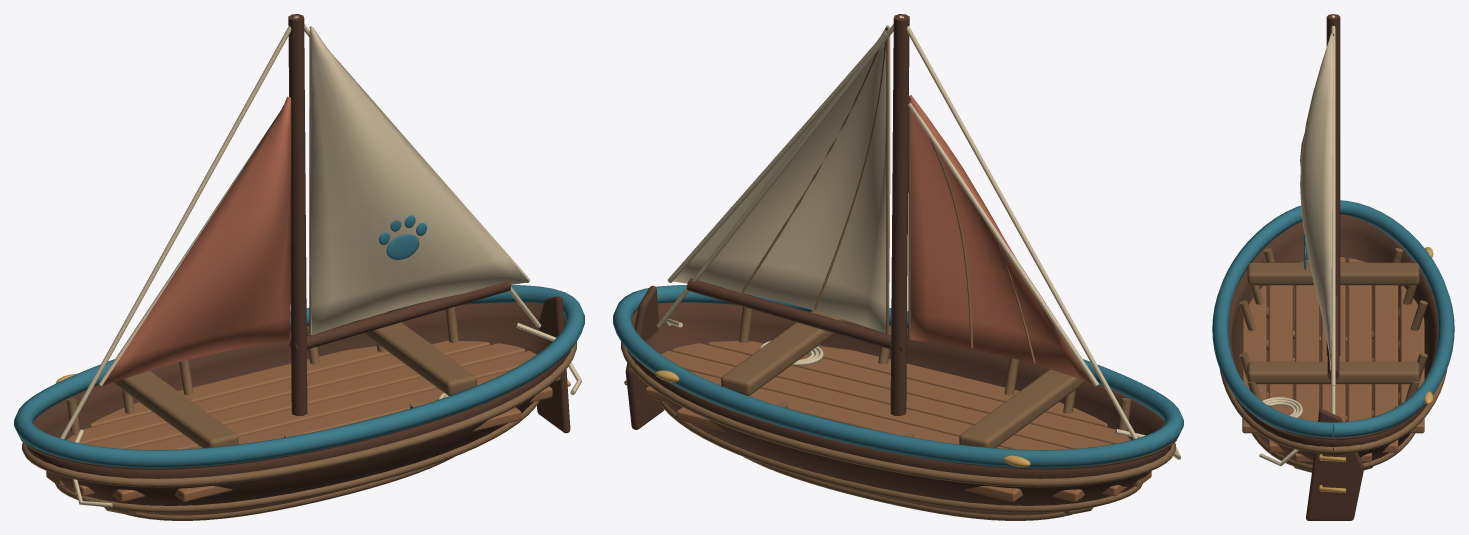
The model's file is harbor_sailboat_atelier.glb.
3 renders of one model, left to right at view 1: azimuth 30°, elevation 25°; view 2: azimuth 150°, elevation 25°; view 3: azimuth 270°, elevation 25°, orthographic. The views are drawn at different scales.
Parts seen in each view (by area): view 1: harbor_sailboat_atelier__TaggedPainted_Boat_Matte, harbor_sailboat_atelier__Painted_Boat_Glaze; view 2: harbor_sailboat_atelier__TaggedPainted_Boat_Matte, harbor_sailboat_atelier__Painted_Boat_Glaze; view 3: harbor_sailboat_atelier__TaggedPainted_Boat_Matte, harbor_sailboat_atelier__Painted_Boat_Glaze, harbor_sailboat_atelier__Painted_Boat_Metal.
Part boxes in pixels (<box>): harbor_sailboat_atelier__TaggedPainted_Boat_Matte: <box>20,14,581,520</box>; harbor_sailboat_atelier__Painted_Boat_Glaze: <box>14,215,584,468</box>; harbor_sailboat_atelier__TaggedPainted_Boat_Matte: <box>621,14,1180,520</box>; harbor_sailboat_atelier__Painted_Boat_Glaze: <box>613,285,1183,468</box>; harbor_sailboat_atelier__TaggedPainted_Boat_Matte: <box>1219,14,1447,520</box>; harbor_sailboat_atelier__Painted_Boat_Glaze: <box>1212,200,1454,437</box>; harbor_sailboat_atelier__Painted_Boat_Metal: <box>1319,247,1433,492</box>.
Bounding box in the file's own units: 3.5 × 2.84 × 1.56.
